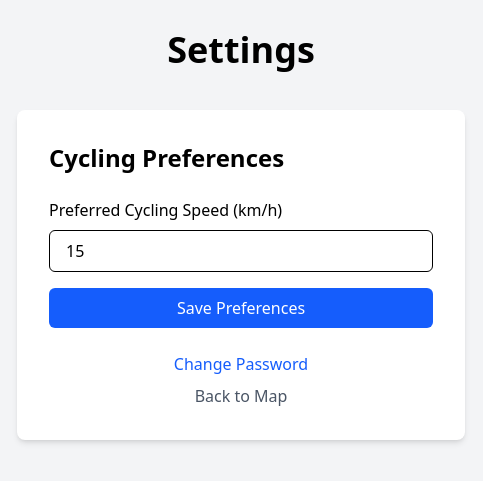
Settings Page › shows validation error for invalid speed
The width and height of the screenshot is (483, 481).
Step 1. Replace the text in the number field labelled "Preferred Cycling Speed (km/h)" with "-5" → (241, 251), box [49, 230, 433, 272]
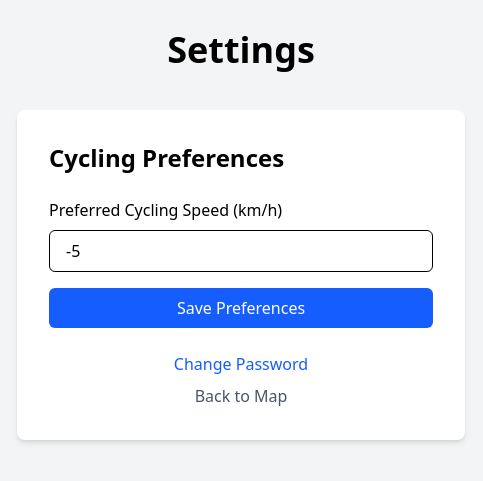
Step 2. Click the button "Save Preferences" → click(241, 308), box [49, 288, 433, 328]
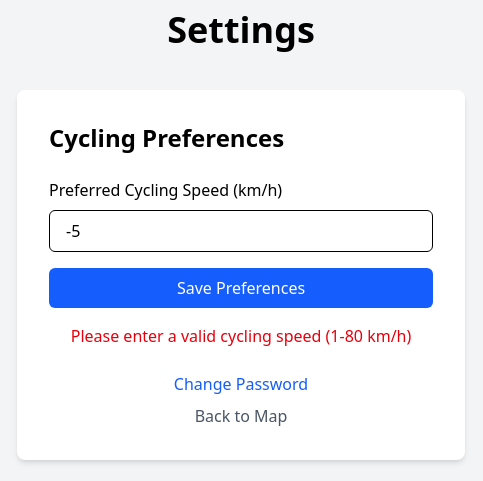
Check: the text "Please enter a valid cycling speed (1-80 km/h)" is shown, box [49, 324, 433, 348]
